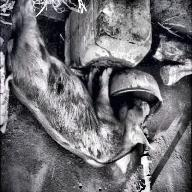boar: (5, 0, 156, 174)
